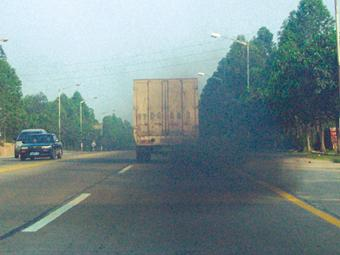smoke: (170, 135, 296, 202)
